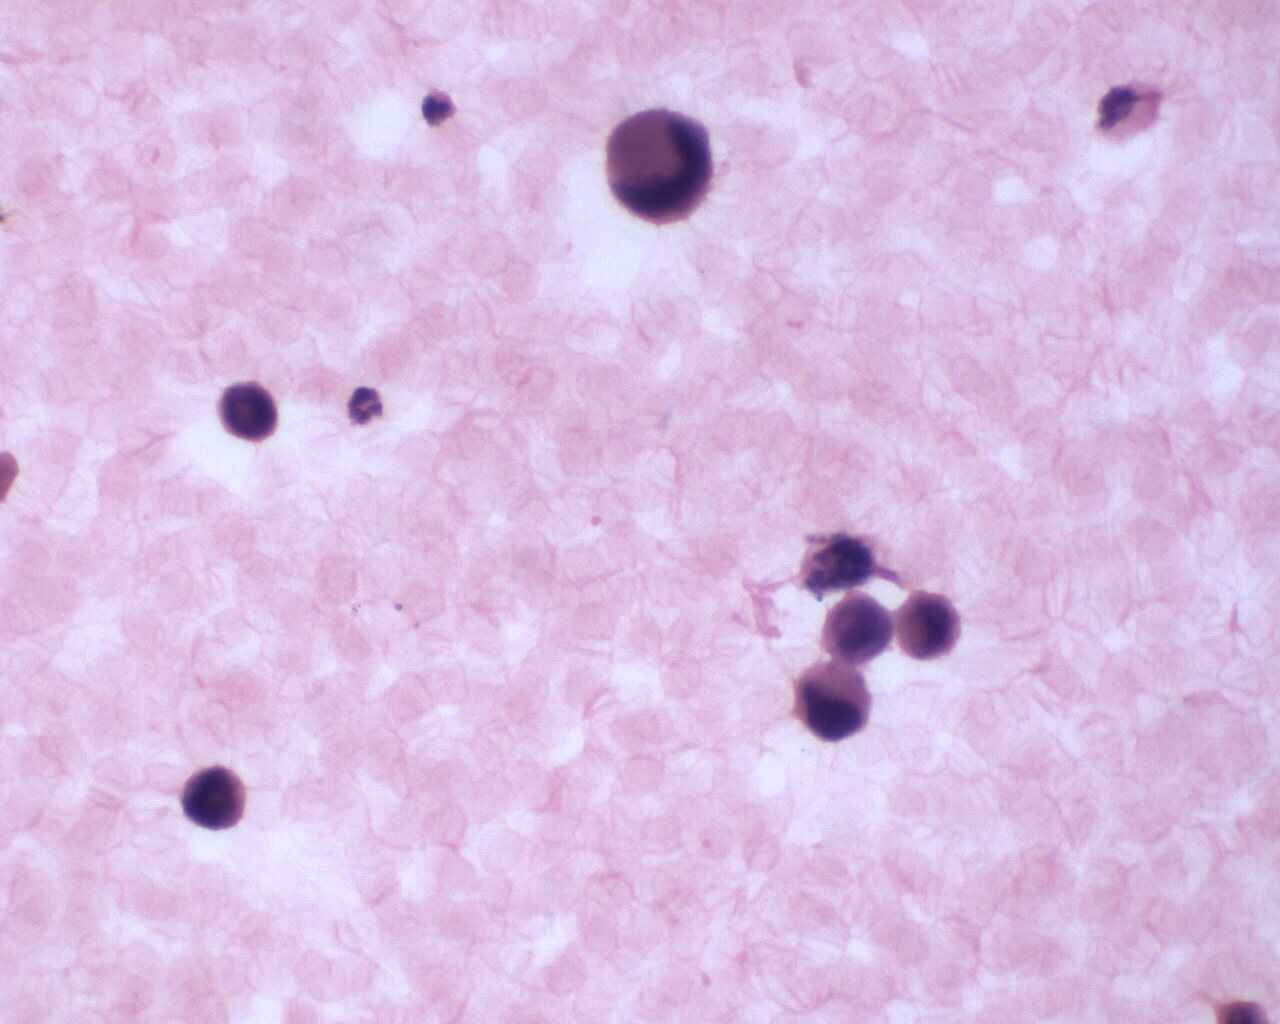ab: (788, 660, 875, 745), (816, 588, 897, 667), (894, 581, 962, 664), (176, 761, 248, 834), (215, 374, 284, 447)
neutro: (342, 382, 386, 430)
